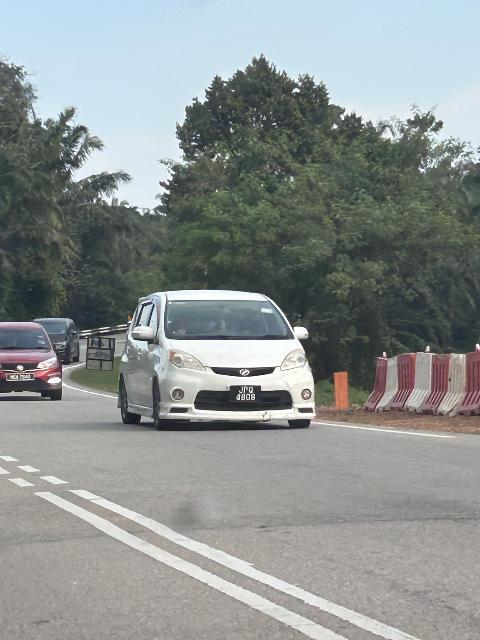JPQ4808: (231, 385, 263, 405)
License_Plate: (231, 385, 263, 405), (7, 375, 36, 383)
